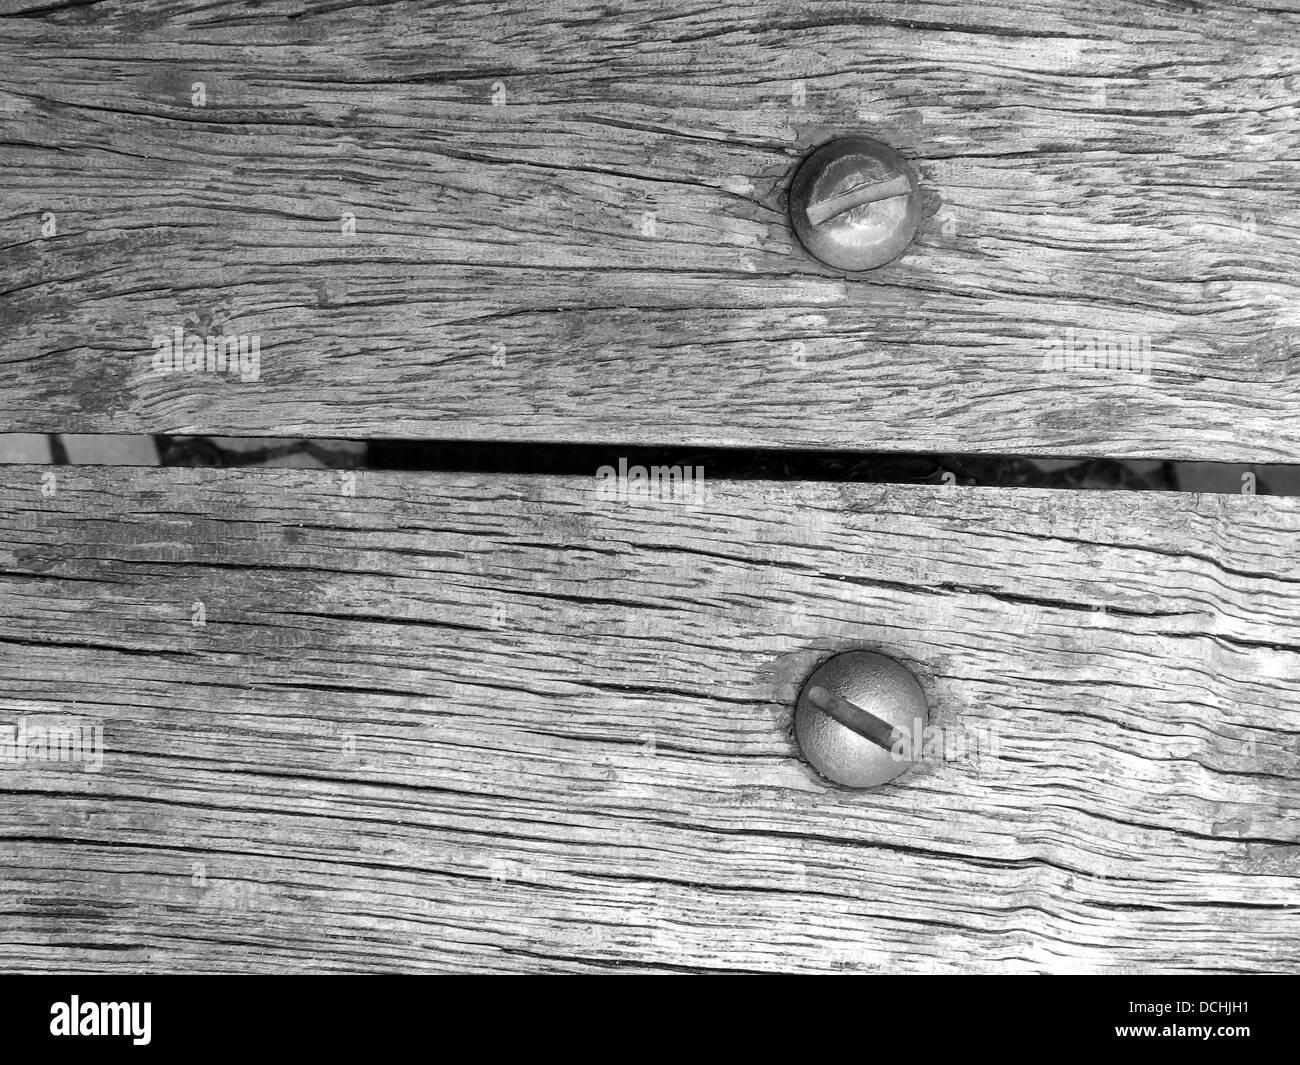screw: (788, 646, 933, 796), (788, 133, 919, 272)
